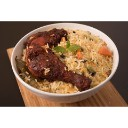briyani: (25, 33, 110, 86)
